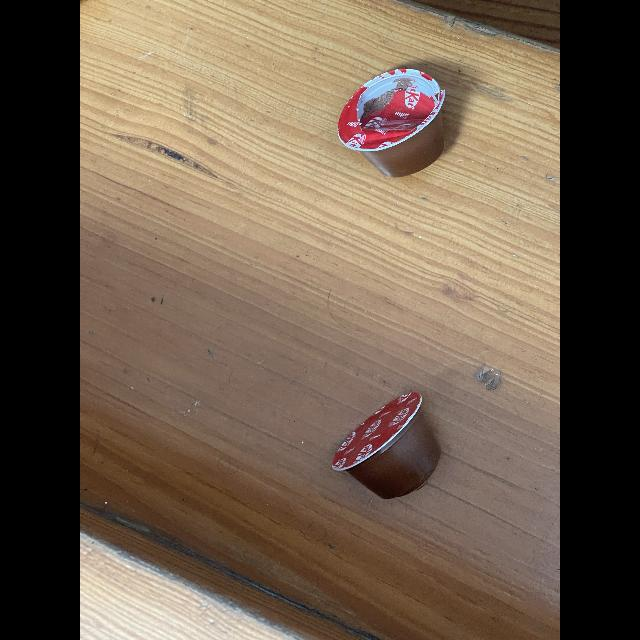damaged_capsule: (335, 62, 473, 188)
intact_capsule: (329, 390, 447, 508)
